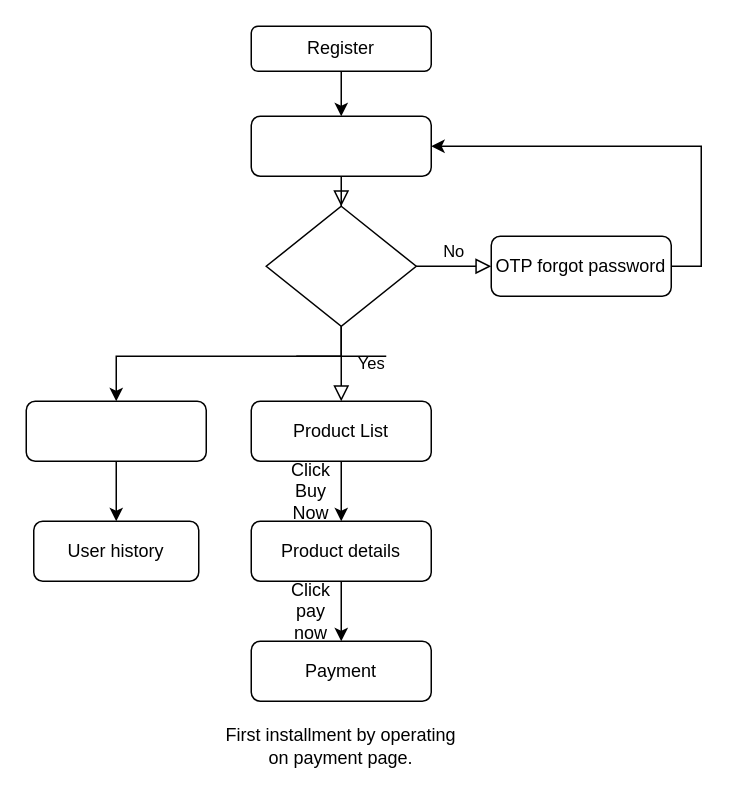
The diagram is 740 pixels wide and 803 high, and some of its shapes have lost their labels. The shapes that lost their labels are listed below. From the top down, each one's centre as x and y in pixels, then its label:
At point (340, 145): "Login".
At point (340, 265): "Login success?".
At point (115, 430): "Dashboard".
